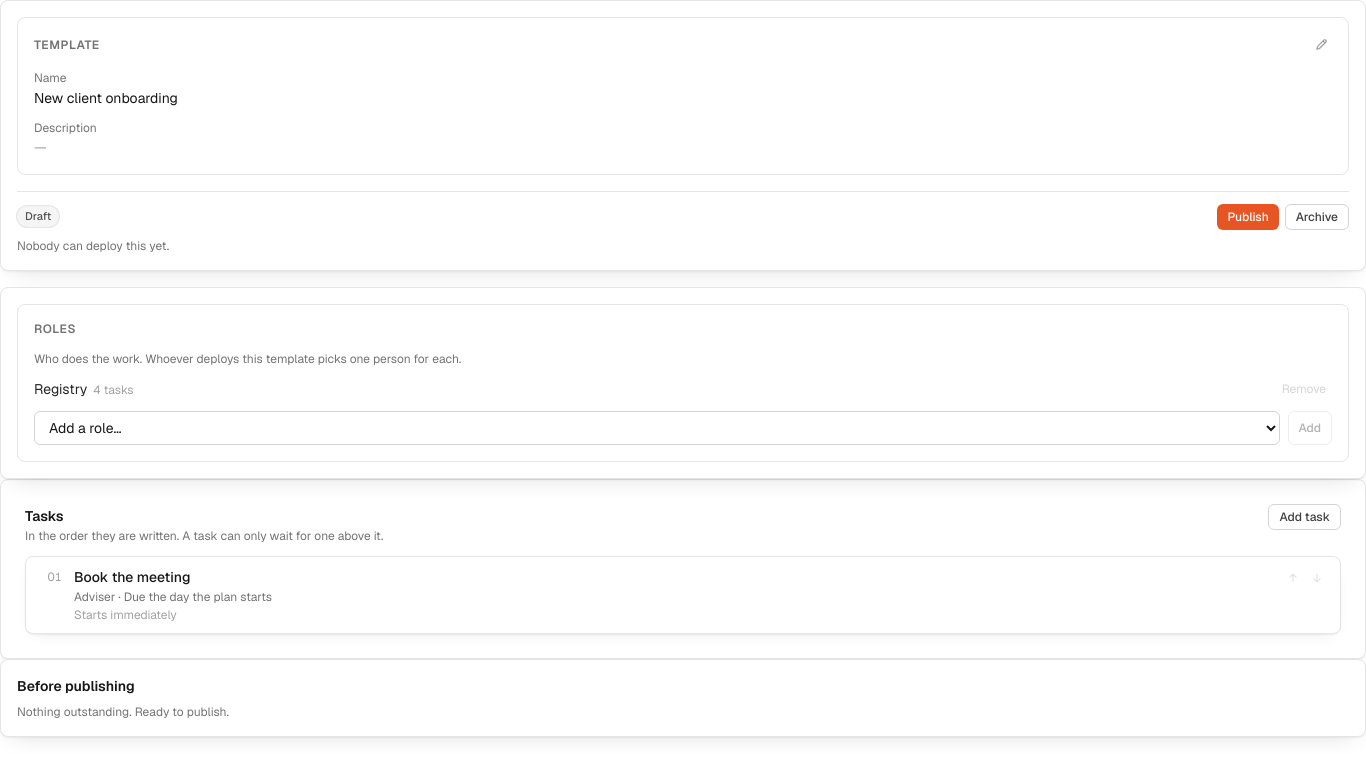
Scenario: who does a task › a task keeps a role that has since been archived
What coordinates should you click on to do the following:
click the button with aria-label "Open Book the meeting"
I would click on:
 (132, 576)
Its box is [74,566,1270,622].
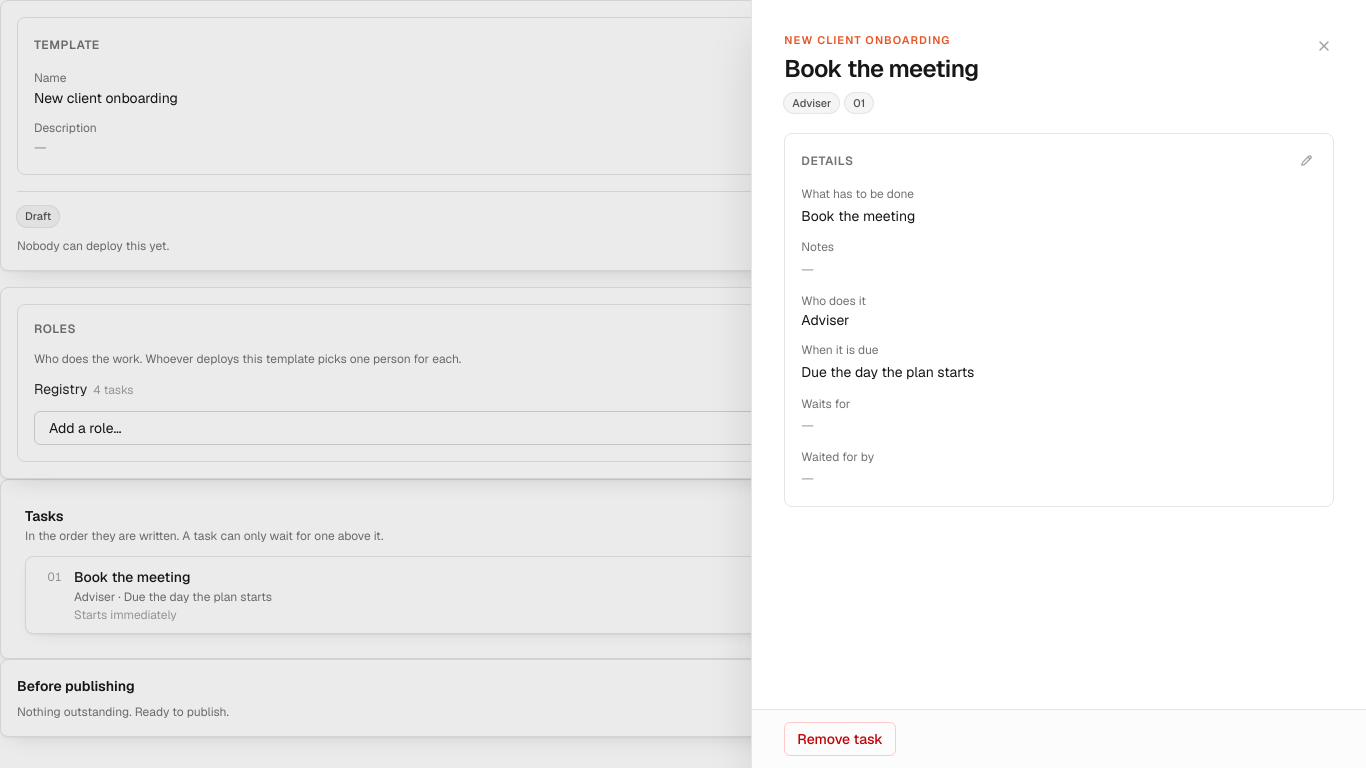
What coordinates should you click on to do the following:
click the button named "Edit details"
I would click on:
 (1306, 161)
Its box is [1295,150,1317,172].
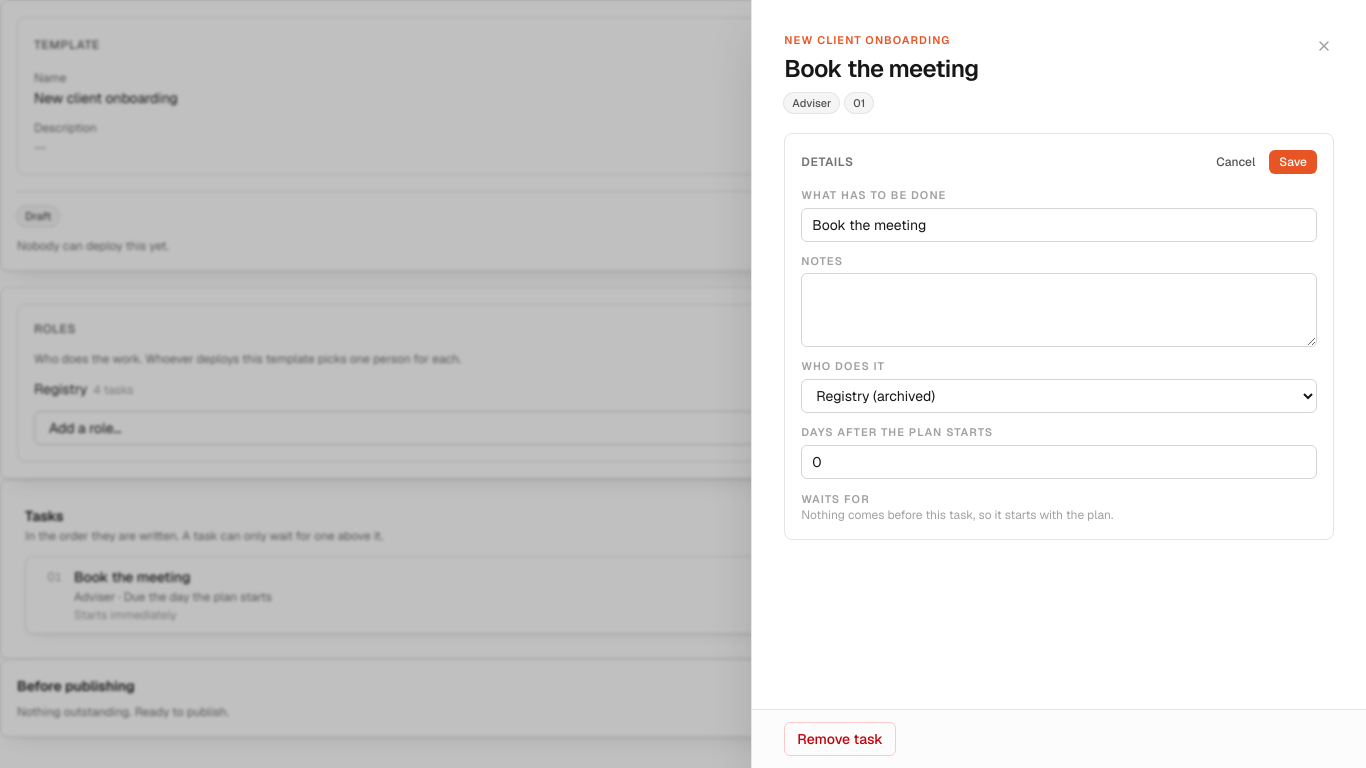
Result: the dropdown labelled "Who does it" shows "Registry (archived)" at [801,379,1317,413]
